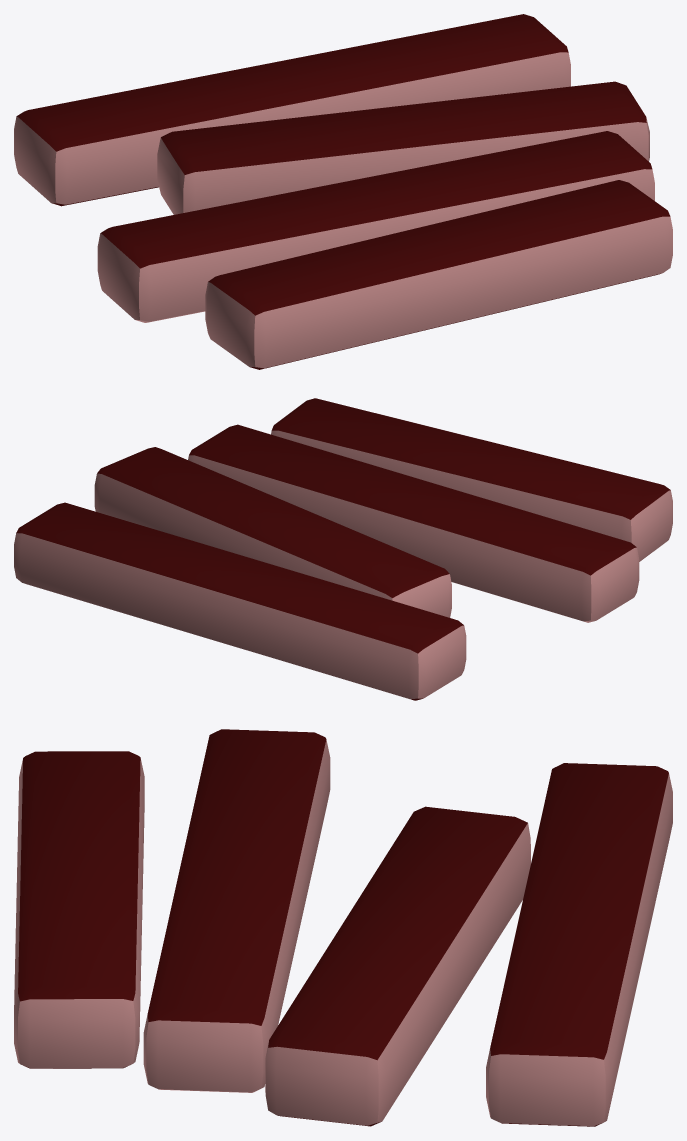
The model's file is CARNE_COCINADA_PRP.fbx.
3 views of the same model, one above another, from view 1: azimuth 30°, elevation 25°; view 2: azimuth 150°, elevation 25°; view 3: azimuth 270°, elevation 25° (orthographic). The views are drawn at different scales.
Visible parts, largest first — view 1: CARNE_CORTADO_PRP; view 2: CARNE_CORTADO_PRP; view 3: CARNE_CORTADO_PRP.
Boxes of the visible parts, x1,y1,x2,y2 form: CARNE_CORTADO_PRP: (14,14,672,369); CARNE_CORTADO_PRP: (14,398,672,700); CARNE_CORTADO_PRP: (14,729,672,1126).
Size of the model in its own units: 5.78 by 0.6635 by 4.86.
